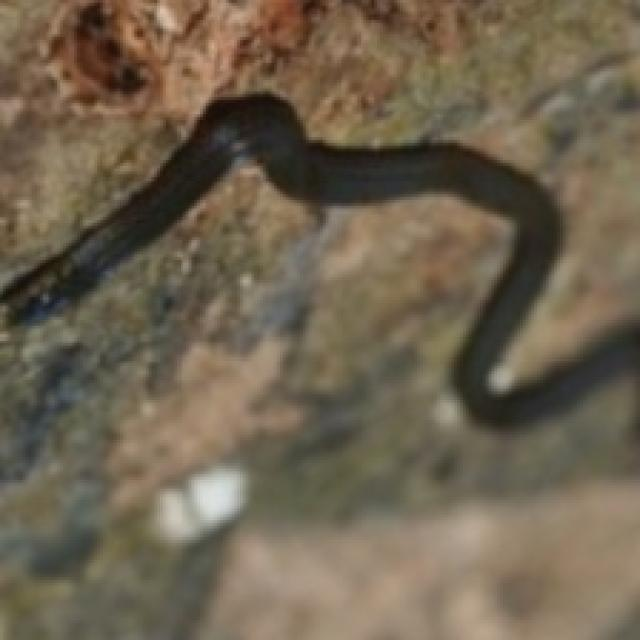gervais worm snake: (0, 94, 637, 426)
